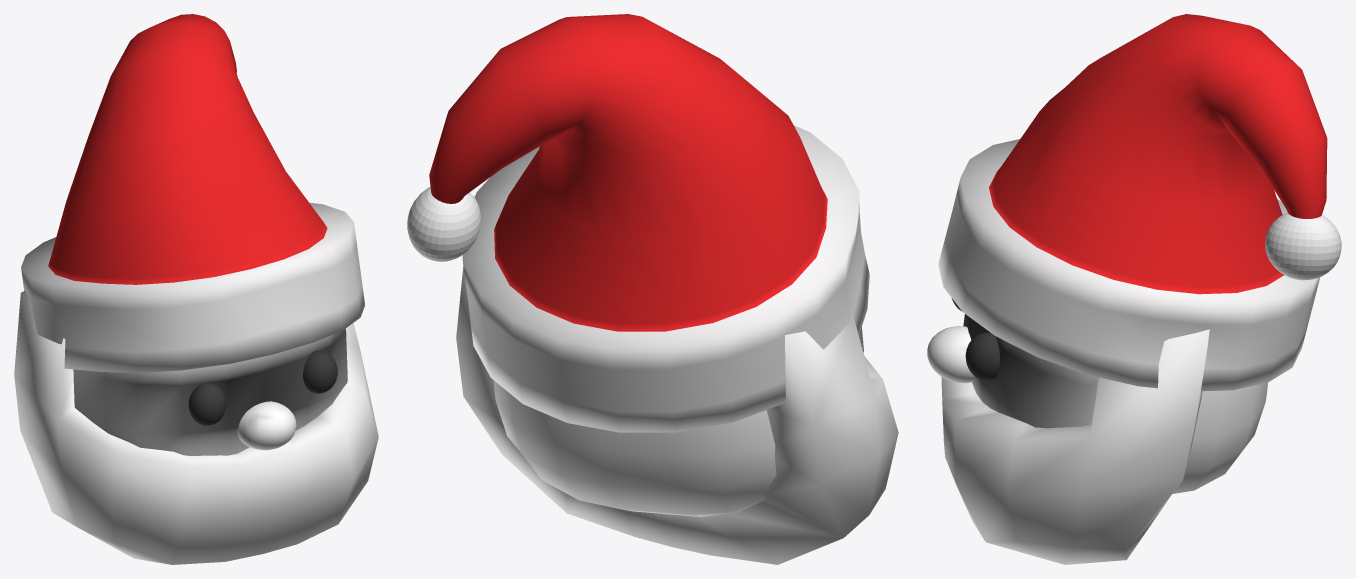
Rendered from santahead.glb.
The picture shows the model from 3 angles, left to right: view 1: azimuth 30°, elevation 25°; view 2: azimuth 150°, elevation 25°; view 3: azimuth 270°, elevation 25°; orthographic projection. The views are drawn at different scales.
Visible parts, largest first — view 1: Circle.002, Roundcube.001, Roundcube, Sphere.035, Sphere.036; view 2: Circle.002, Roundcube.001, Roundcube; view 3: Circle.002, Roundcube.001, Roundcube, Sphere.036, Sphere.035.
Part boxes in pixels (x1,y1,x2,y2): Circle.002: [21, 14, 364, 373]; Roundcube.001: [14, 290, 378, 564]; Roundcube: [73, 329, 347, 455]; Sphere.035: [188, 350, 337, 425]; Sphere.036: [237, 401, 296, 450]; Circle.002: [407, 14, 869, 432]; Roundcube.001: [456, 267, 898, 564]; Roundcube: [493, 327, 863, 516]; Circle.002: [938, 14, 1341, 391]; Roundcube.001: [941, 329, 1209, 564]; Roundcube: [963, 314, 1268, 493]; Sphere.036: [927, 326, 974, 383]; Sphere.035: [951, 298, 999, 380].
Size of the model in its own units: 5.39 by 7.99 by 5.73.
